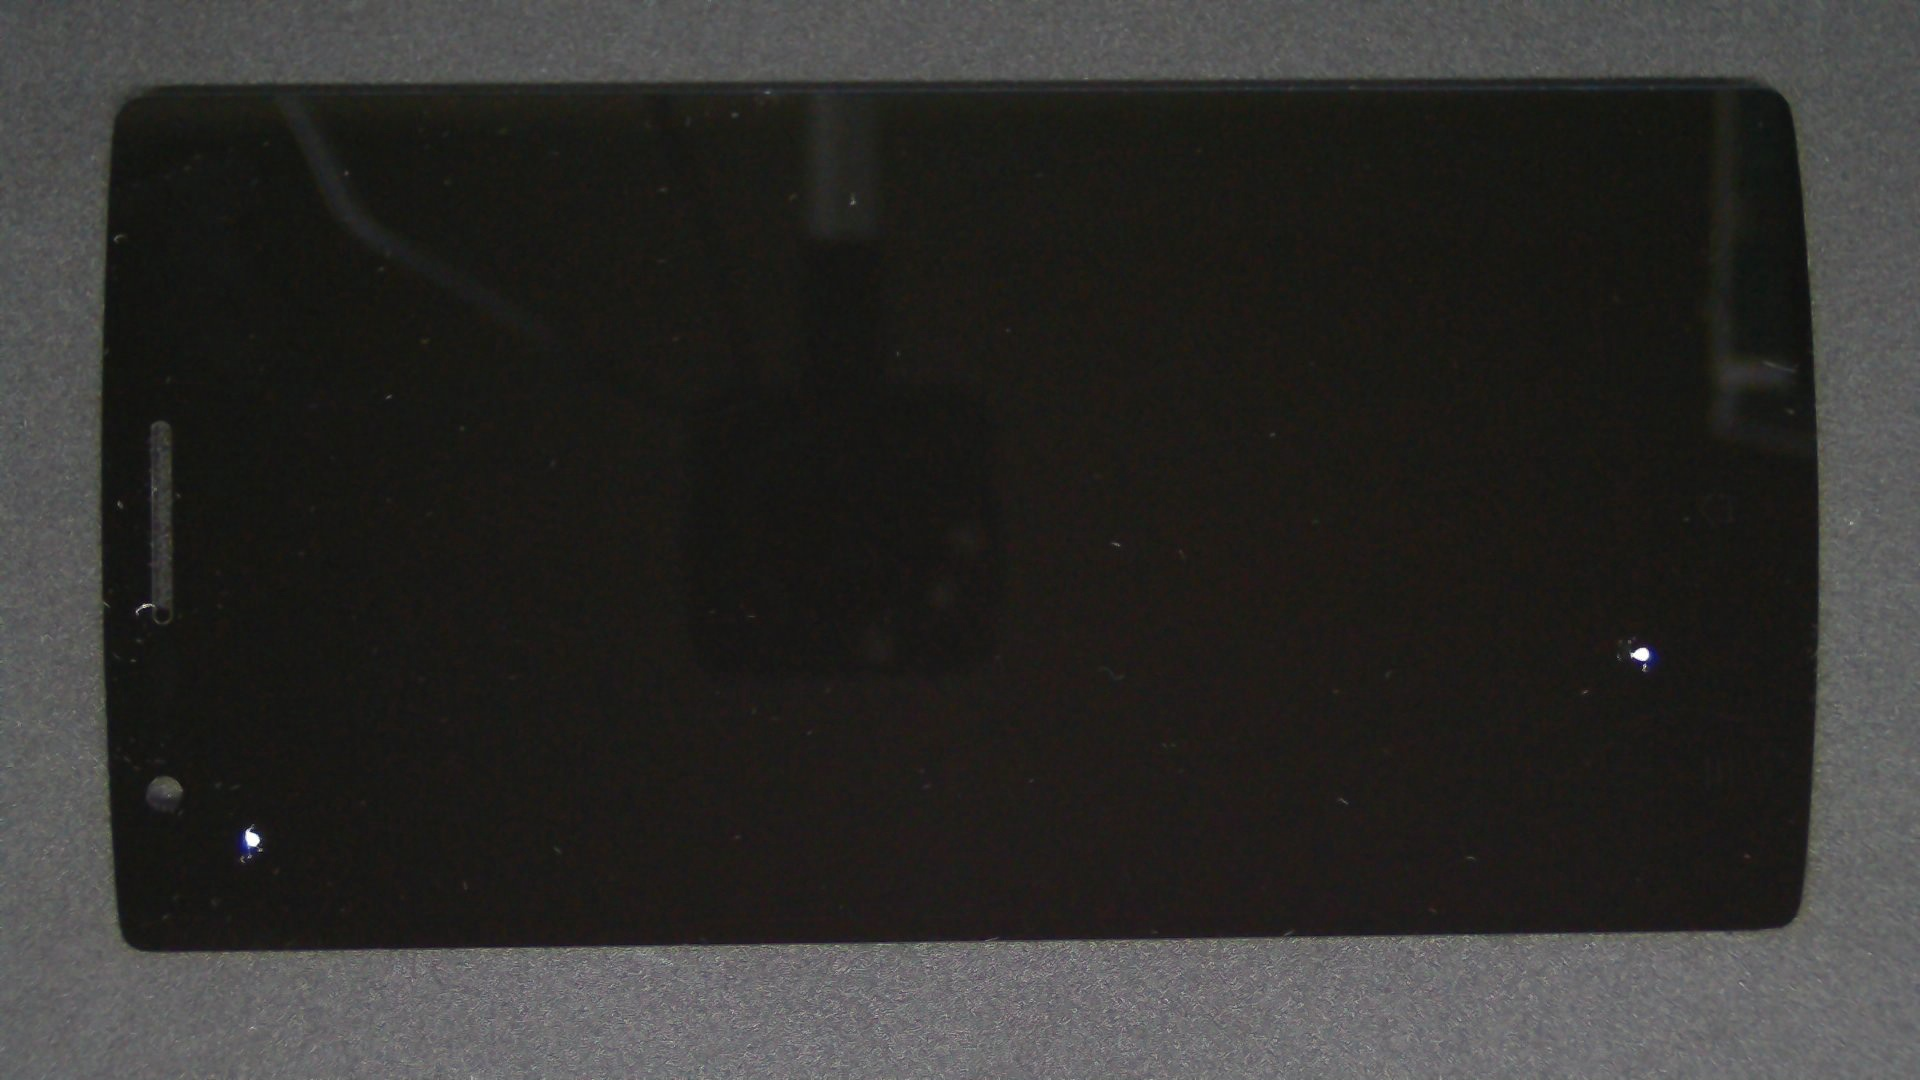oil: (822, 322, 1920, 968), (127, 411, 378, 1080), (125, 426, 375, 1080)
